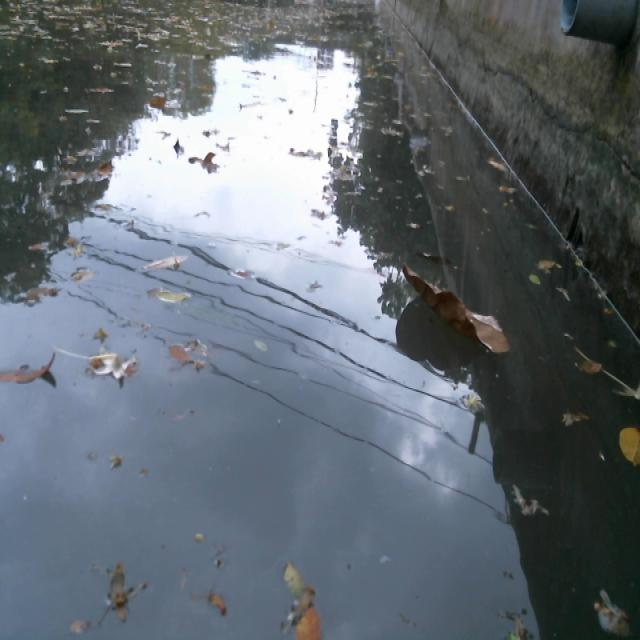Big-leaf: (395, 261, 517, 362)
Small-leaf: (0, 348, 57, 391), (87, 341, 143, 384), (588, 598, 635, 640), (508, 476, 552, 520), (105, 555, 130, 628), (293, 597, 325, 640), (16, 279, 65, 307), (615, 419, 640, 471), (555, 404, 596, 435), (145, 282, 193, 307), (205, 584, 232, 621), (570, 352, 609, 377), (188, 142, 222, 170), (458, 386, 488, 417), (65, 258, 98, 286), (280, 557, 304, 595), (65, 613, 96, 640), (93, 159, 119, 183), (496, 181, 524, 202), (166, 341, 192, 363), (224, 262, 261, 277), (106, 448, 129, 472), (25, 235, 52, 255), (248, 334, 273, 355), (537, 253, 564, 272), (525, 269, 546, 289), (92, 198, 119, 213), (487, 155, 508, 173), (172, 131, 185, 158)
